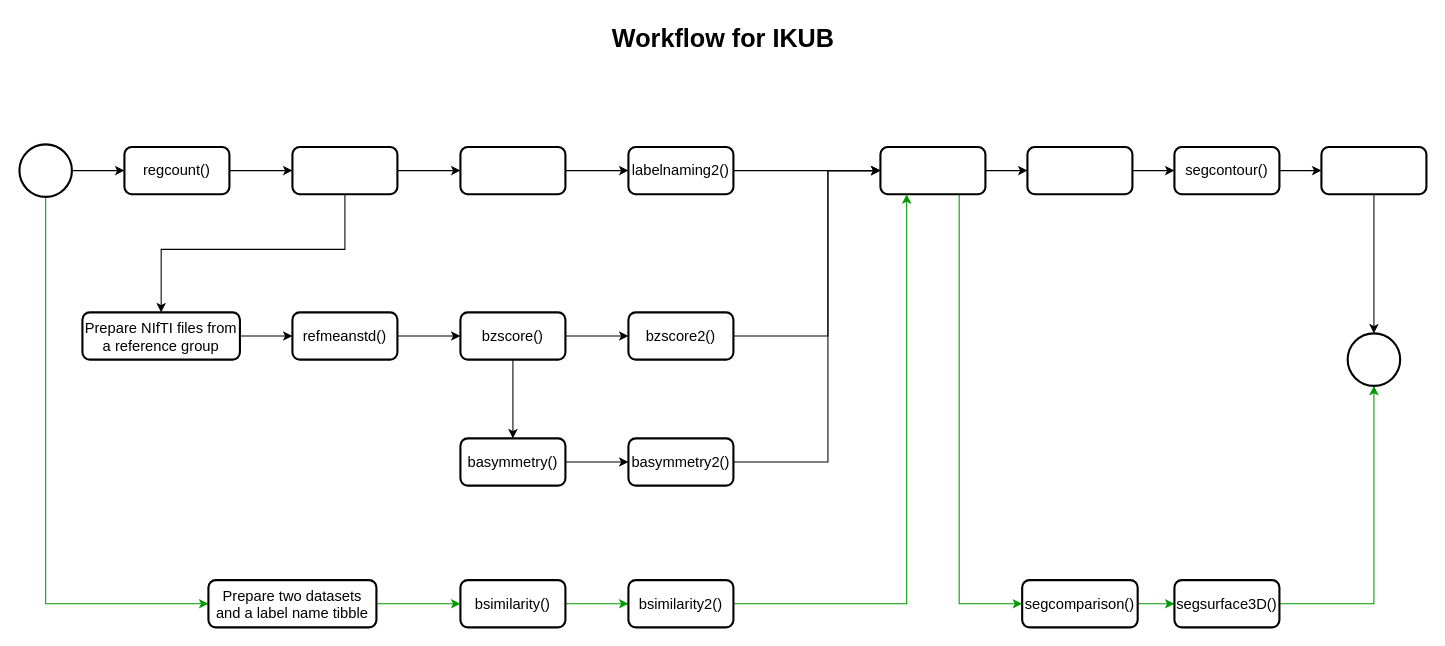
This 1445x646 diagram has some shape labels left out. The centre of each missing label's shape, as x and y in pixels:
end: (1373,359)
extractsliceno(): (1079,170)
labelnaming(): (512,170)
Prepare a label name tibble: (344,170)
segcontour3D(): (1373,170)
shiny app-violinplot: (932,170)
start: (45,170)
